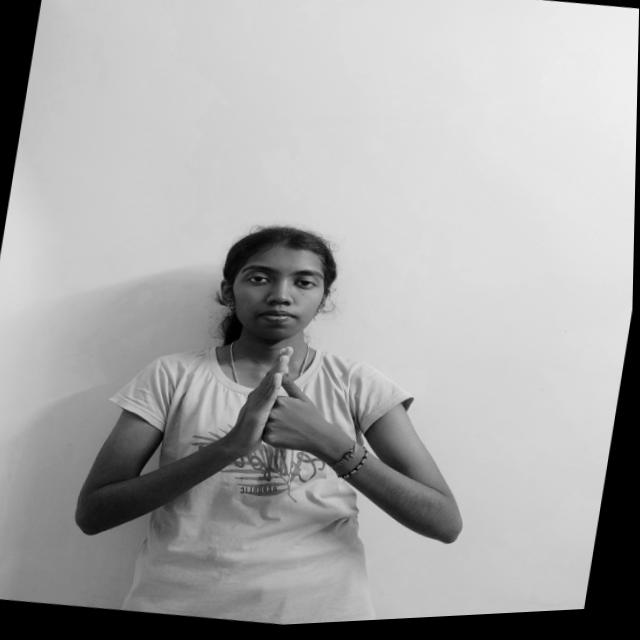Well Done: (205, 331, 372, 478)
